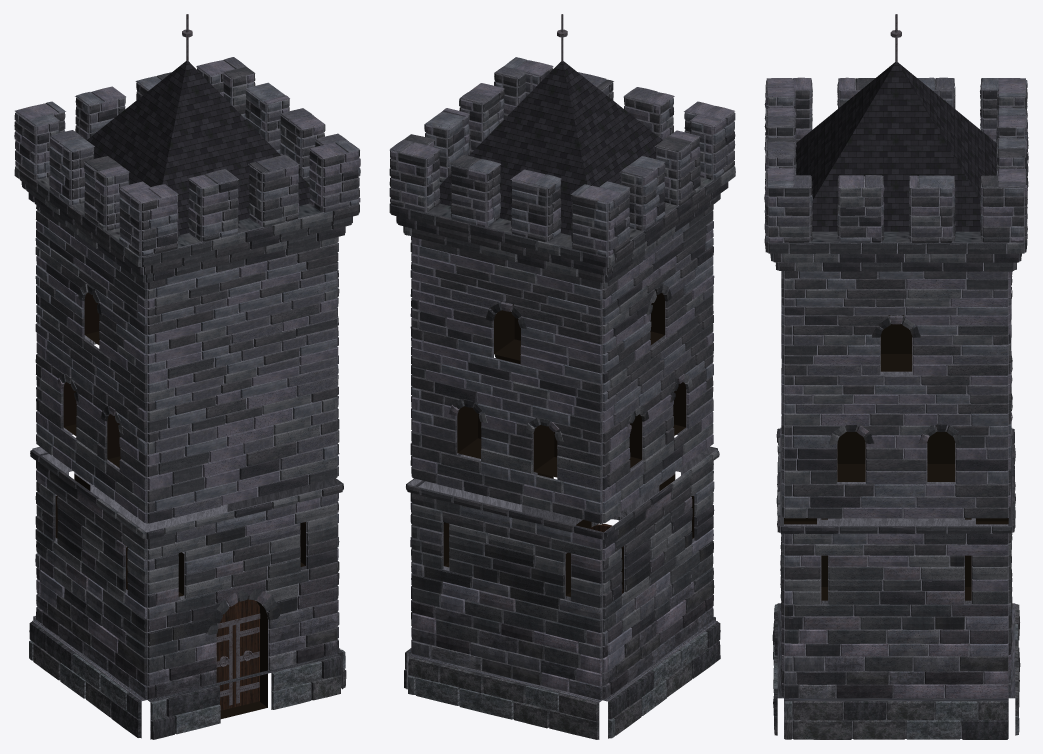
The model's file is fort_keep.glb.
3 views of the same model, side by side, from view 1: azimuth 30°, elevation 25°; view 2: azimuth 150°, elevation 25°; view 3: azimuth 270°, elevation 25° (orthographic). The views are drawn at different scales.
Visible parts, largest first — view 1: fort_keep; view 2: fort_keep; view 3: fort_keep.
Part boxes in pixels (left/top/right/bottom): fort_keep: left=14, top=14, right=360, bottom=739; fort_keep: left=389, top=14, right=735, bottom=739; fort_keep: left=764, top=14, right=1028, bottom=739.
Bounding box in the file's own units: 5.64 × 15.9 × 5.65.
5 materials, 5 textured.
